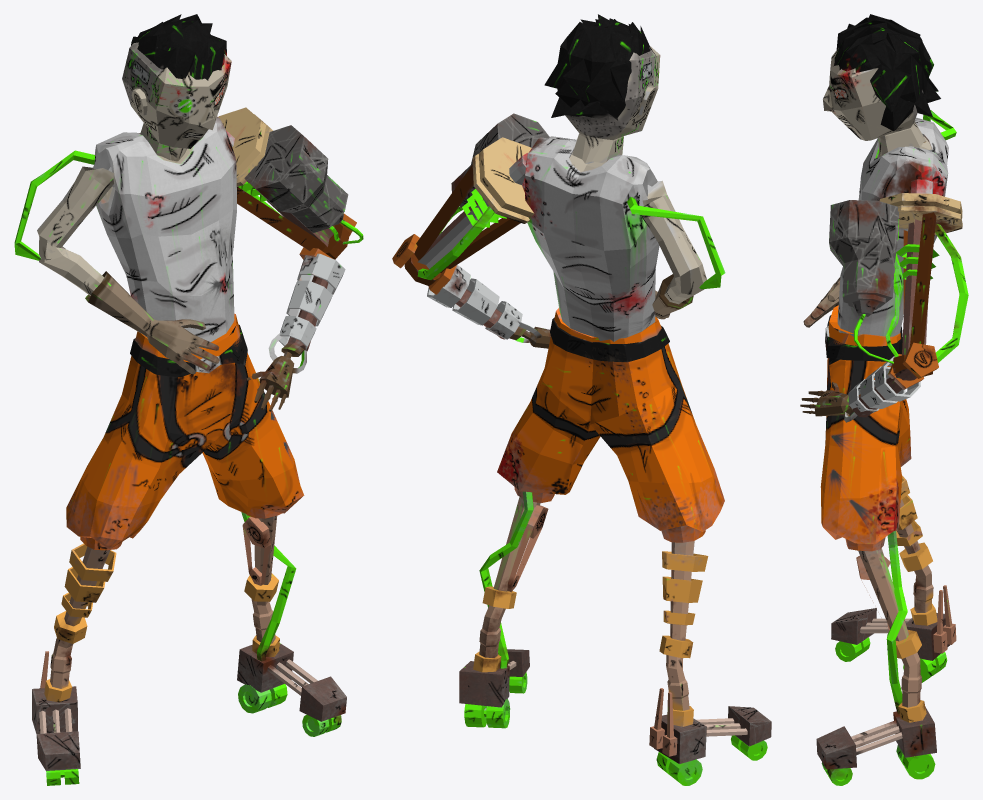
File: CyborgFINALAnimation_000052.obj
3 views of the same model, side by side, from view 1: azimuth 30°, elevation 25°; view 2: azimuth 150°, elevation 25°; view 3: azimuth 270°, elevation 25° (orthographic). The views are drawn at different scales.
Visible parts, largest first — view 1: CyborgMesh_Cube.002; view 2: CyborgMesh_Cube.002; view 3: CyborgMesh_Cube.002.
Boxes of the visible parts, <box> form: CyborgMesh_Cube.002: <box>14,14,363,785</box>; CyborgMesh_Cube.002: <box>392,14,771,785</box>; CyborgMesh_Cube.002: <box>800,14,968,785</box>.
Bounding box in the file's own units: 4.77 × 9.57 × 2.07.
